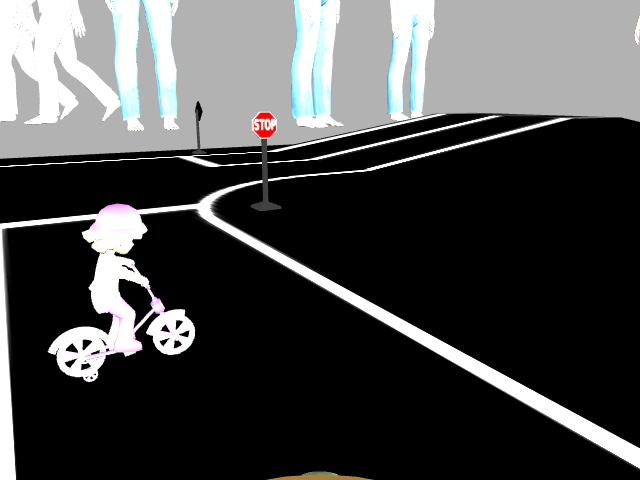Pedestrian: (46, 193, 198, 397)
Stop: (249, 107, 280, 138)
